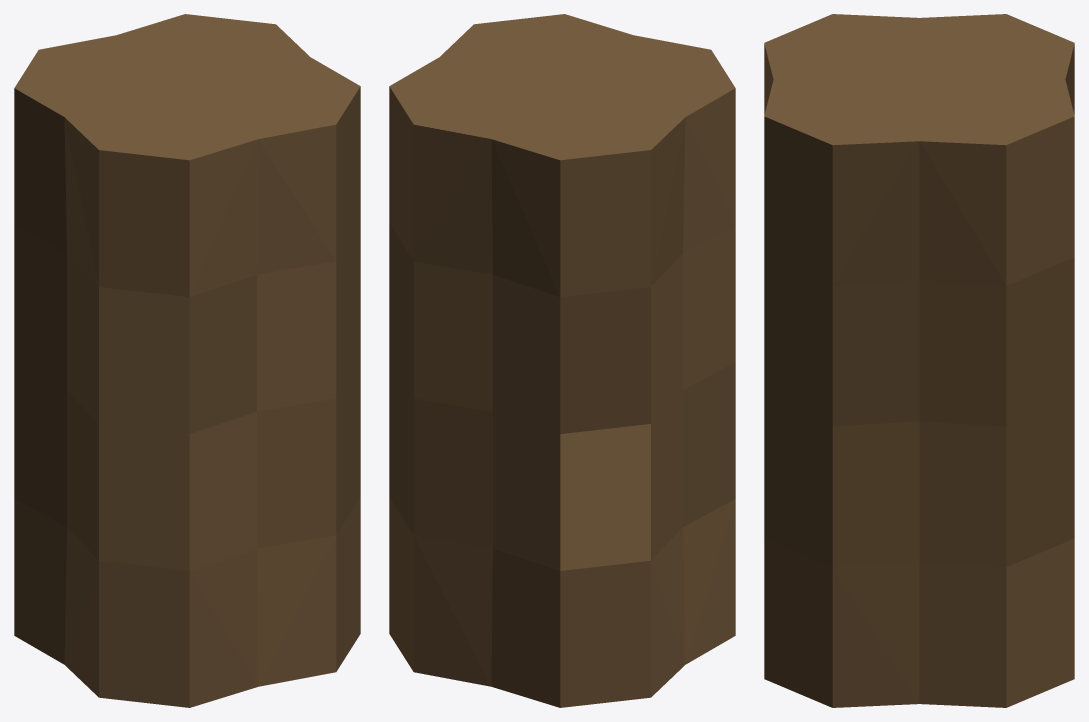
Rendered from Section_3.glb.
3 renders of one model, left to right at view 1: azimuth 30°, elevation 25°; view 2: azimuth 150°, elevation 25°; view 3: azimuth 270°, elevation 25°, orthographic. The views are drawn at different scales.
Visible parts, largest first — view 1: Section; view 2: Section; view 3: Section.
Boxes of the visible parts, left/top/right/bottom form: Section: left=14, top=14, right=360, bottom=707; Section: left=389, top=14, right=735, bottom=707; Section: left=764, top=14, right=1074, bottom=707.
Bounding box in the file's own units: 1.8 × 3.6 × 1.8.
